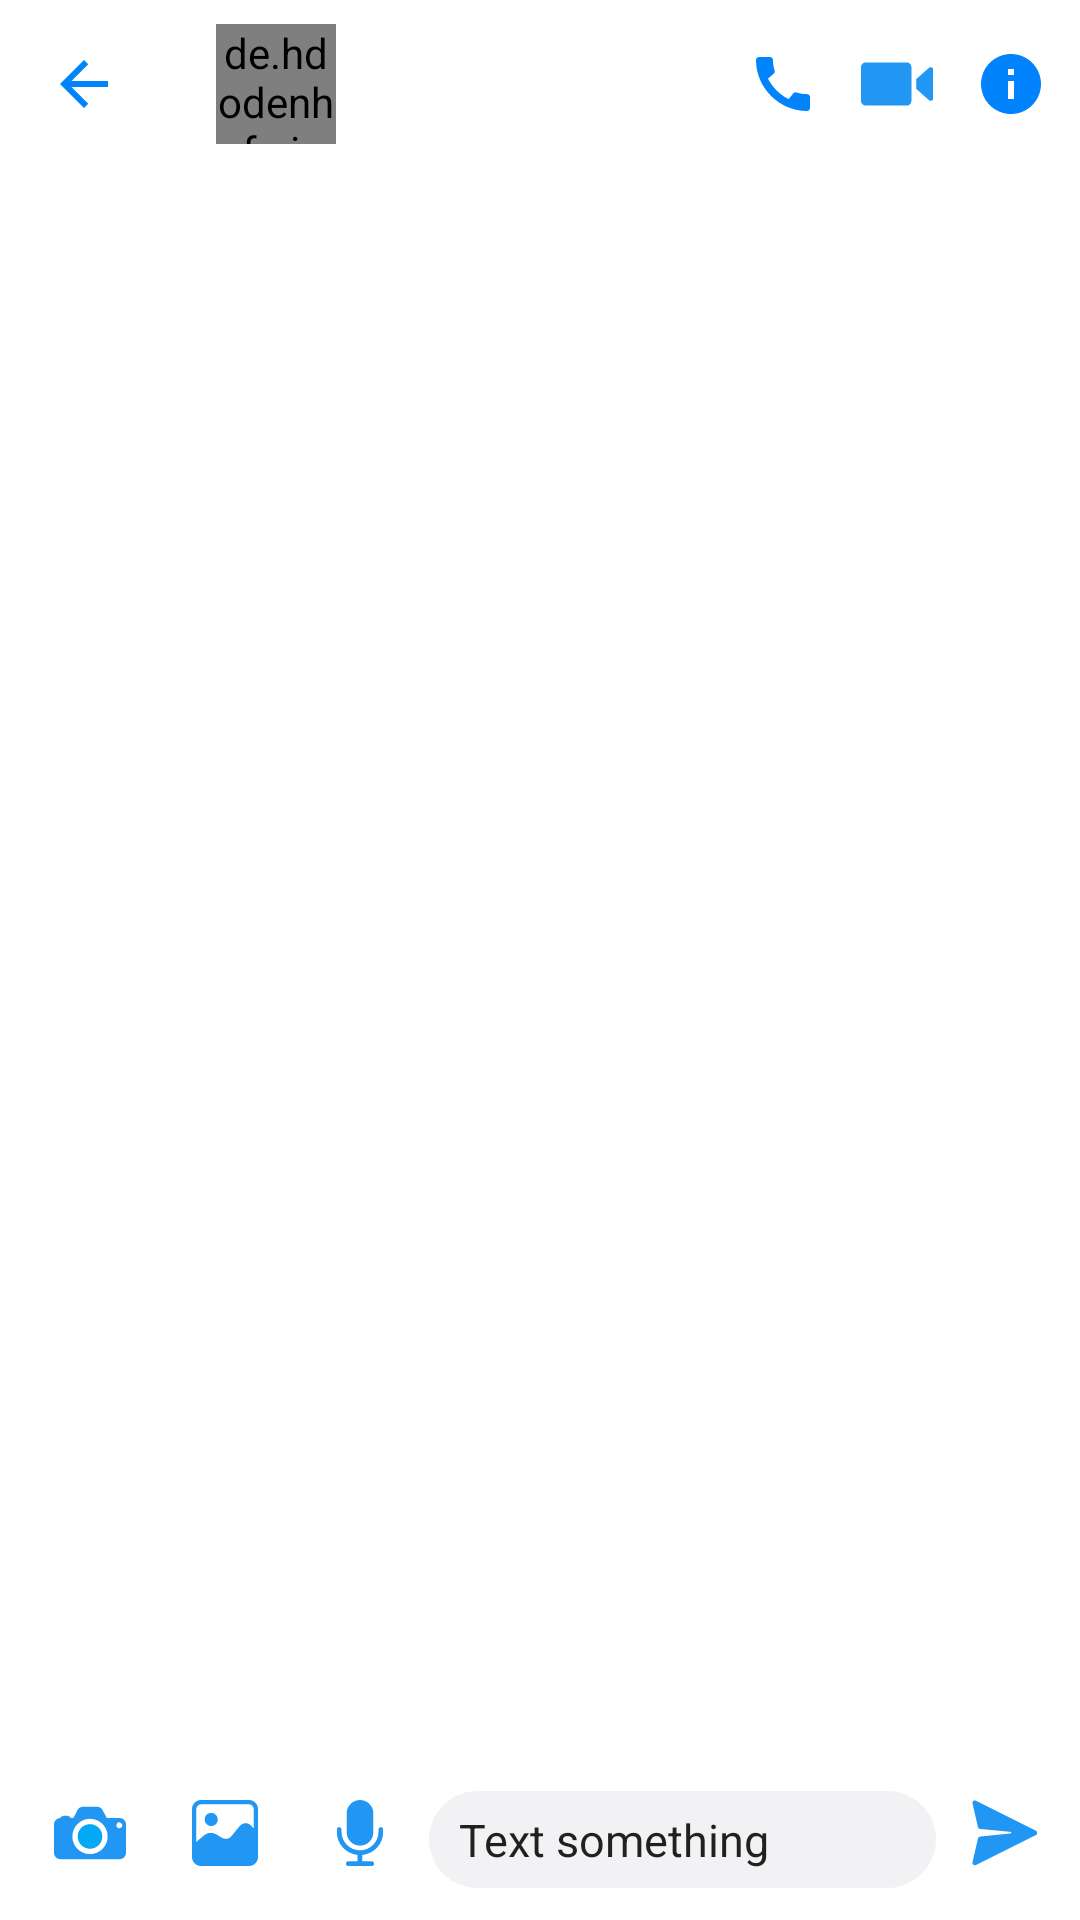

Named icons in this screenshot (1080 x 1920) and their centers, point (x, y):
camera: point (90, 1833)
gallery: point (225, 1833)
information: point (1011, 84)
send: point (1004, 1833)
video call: point (897, 84)
voice: point (360, 1833)
voice call: point (783, 84)
